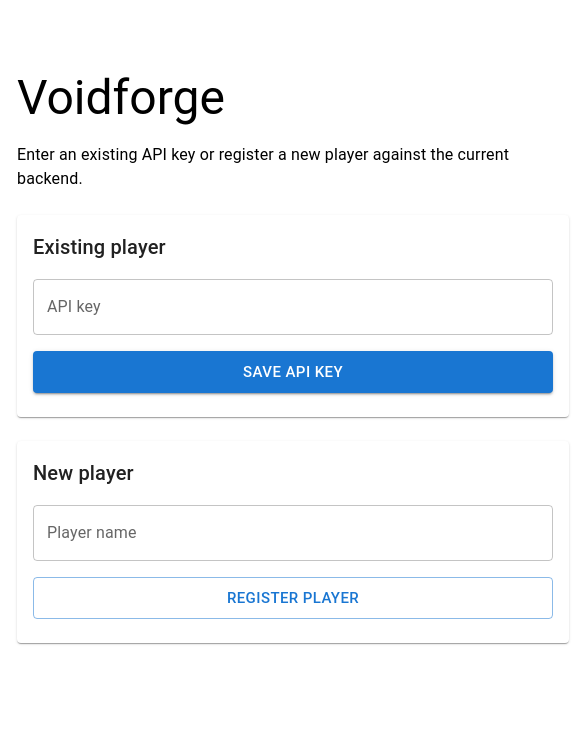
Test case: LoginPage › shows the generated API key once after registering a player
Type "Kedar" into the field labelled "Player name". click: (293, 533)
box: [33,505,553,561]
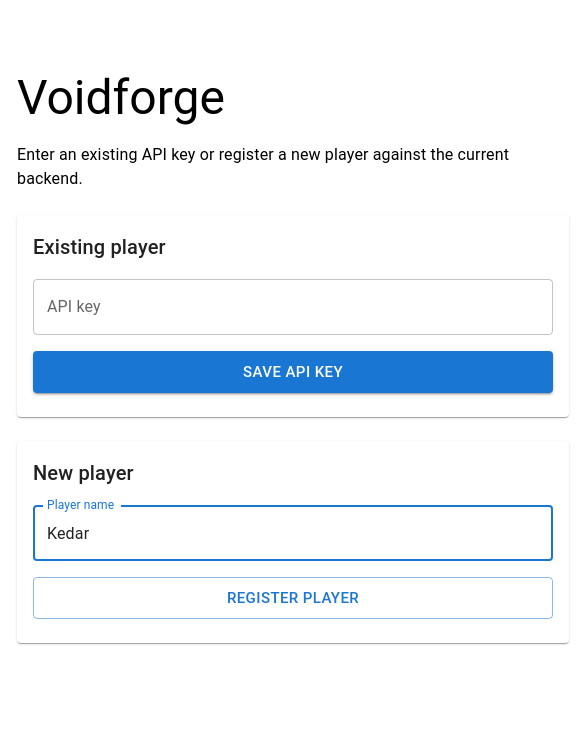
Click the button "Register player". click: click(293, 598)
box: [33,577,553,619]
(page scrolled)
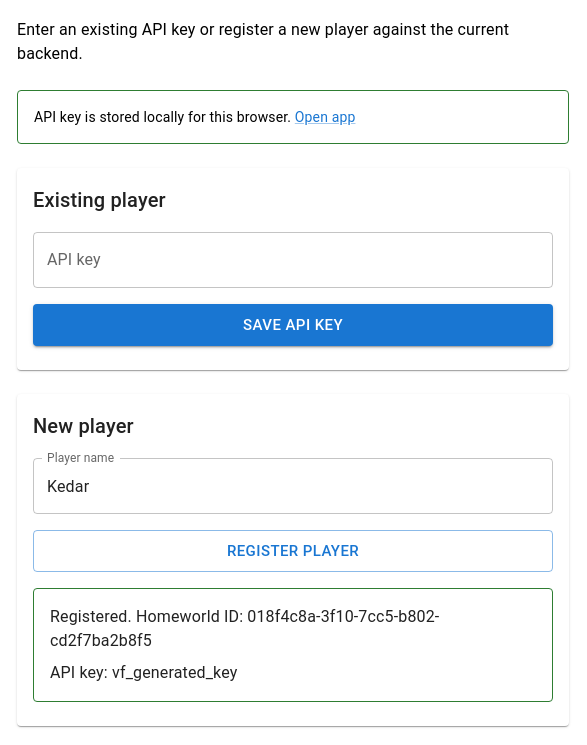
Expected: the text "API key: vf_generated_key" is shown, [50,663,238,682]
